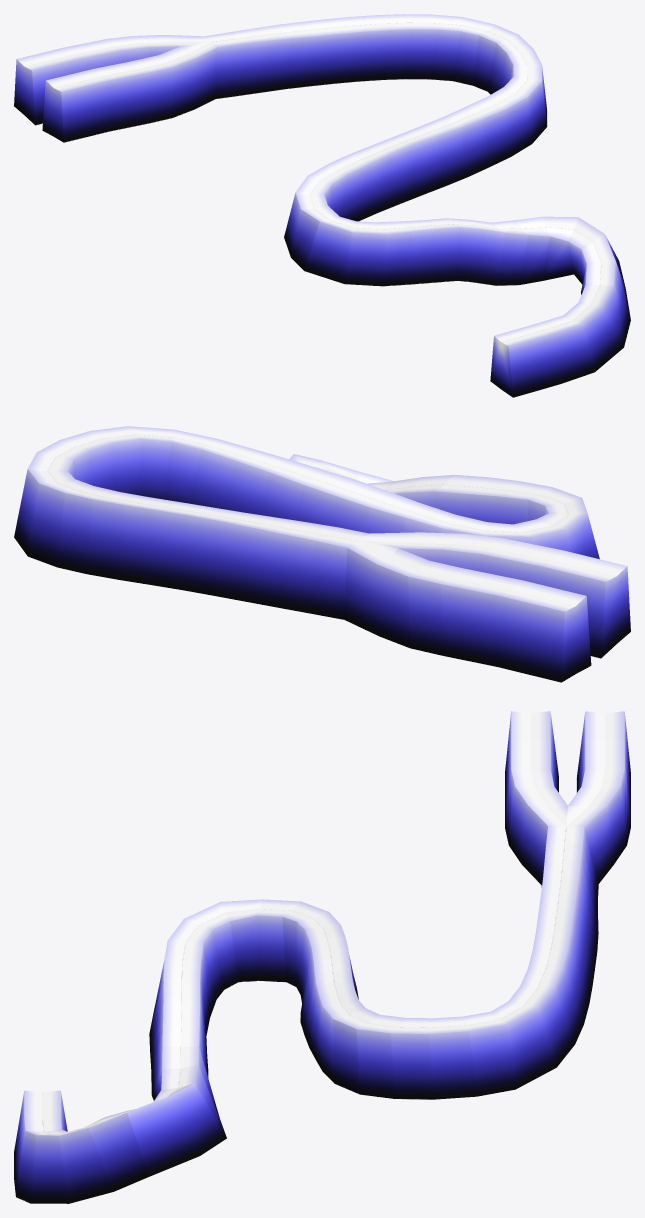
The model's file is level-01.glb.
3 renders of one model, top to bottom at view 1: azimuth 30°, elevation 25°; view 2: azimuth 150°, elevation 25°; view 3: azimuth 270°, elevation 25°, orthographic. The views are drawn at different scales.
Visible parts, largest first — view 1: Plane.001, Plane.002; view 2: Plane.001, Plane.002; view 3: Plane.001, Plane.002.
Boxes of the visible parts, box(x1,y1,x2,y2) form: Plane.001: box(14, 29, 630, 397); Plane.002: box(17, 14, 615, 346); Plane.001: box(14, 439, 630, 682); Plane.002: box(27, 426, 626, 611); Plane.001: box(14, 711, 630, 1203); Plane.002: box(24, 711, 624, 1135).
Bounding box in the file's own units: 53.64 × 25.69 × 50.63.
1 material, 1 textured.
